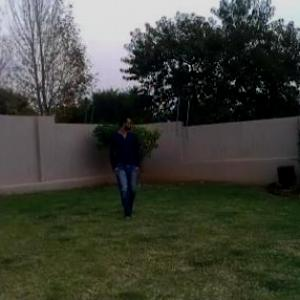follow: (110, 113, 142, 221)
